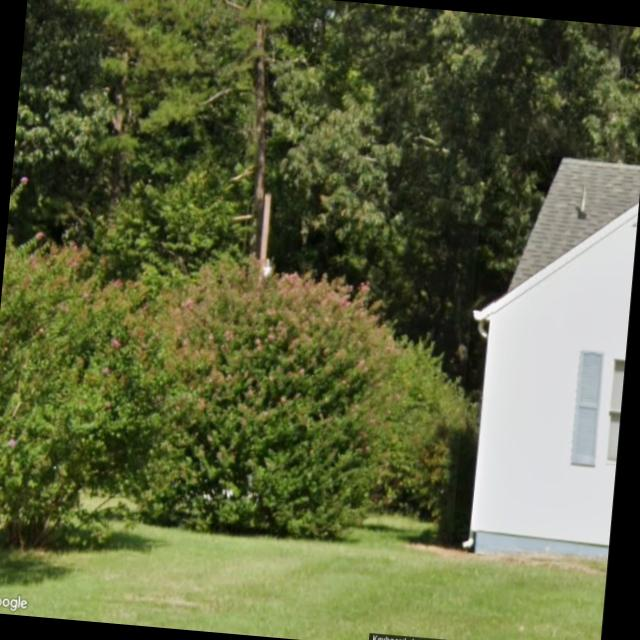House: (450, 150, 640, 566)
